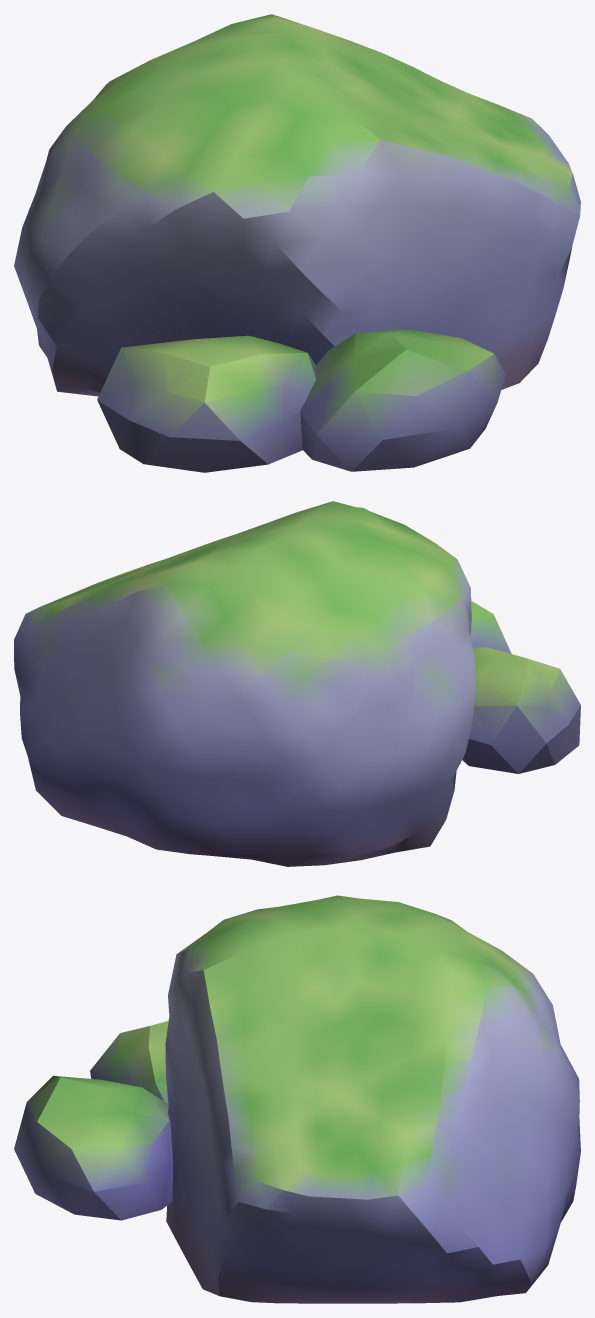
Rendered from verdant_rock_chunk_b.glb.
The picture shows the model from 3 angles, top to bottom: view 1: azimuth 30°, elevation 25°; view 2: azimuth 150°, elevation 25°; view 3: azimuth 270°, elevation 25°; orthographic projection. The views are drawn at different scales.
Visible parts, largest first — view 1: verdant_rock_chunk_b; view 2: verdant_rock_chunk_b; view 3: verdant_rock_chunk_b.
Part boxes in pixels (left/top/right/bottom): verdant_rock_chunk_b: left=14, top=14, right=580, bottom=472; verdant_rock_chunk_b: left=14, top=501, right=580, bottom=866; verdant_rock_chunk_b: left=14, top=895, right=580, bottom=1303.
Bounding box in the file's own units: 5.71 × 3.22 × 5.75.
